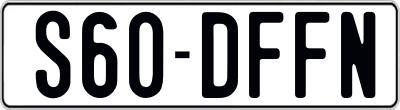0: (129, 12, 167, 99)
6: (80, 10, 118, 99)
D: (200, 10, 238, 99)
F: (247, 12, 286, 99), (294, 9, 329, 99)
N: (339, 11, 375, 102)
S: (34, 9, 71, 100)
